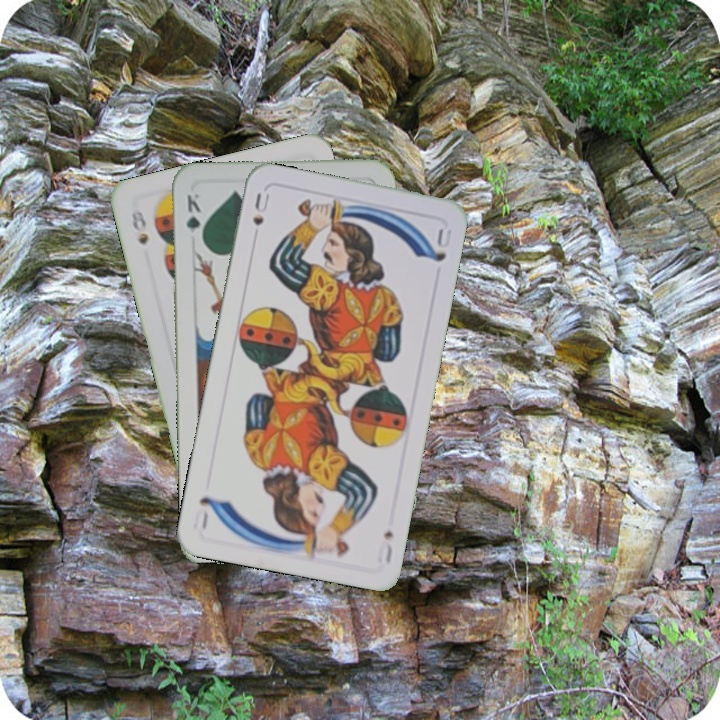GK: (182, 189, 205, 246)
S8: (127, 204, 151, 248)
SU: (248, 189, 272, 228), (373, 526, 396, 566)
